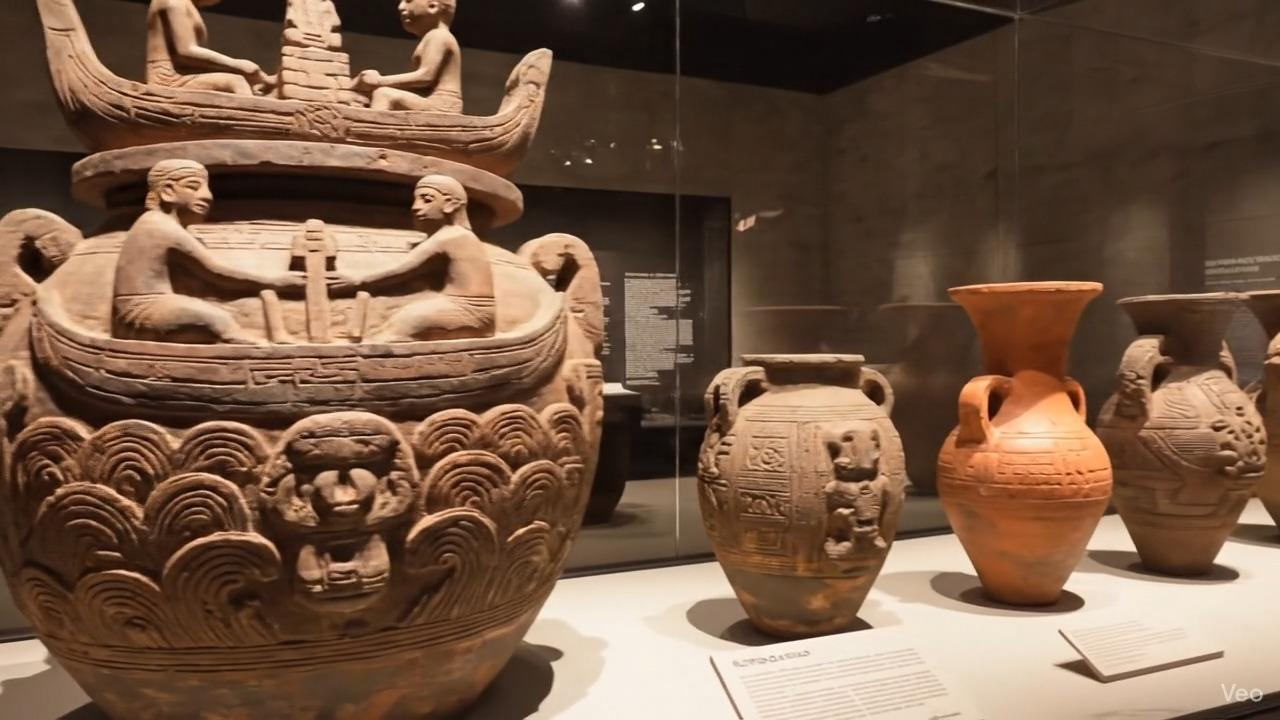manunggul_jar: (0, 0, 608, 720)
